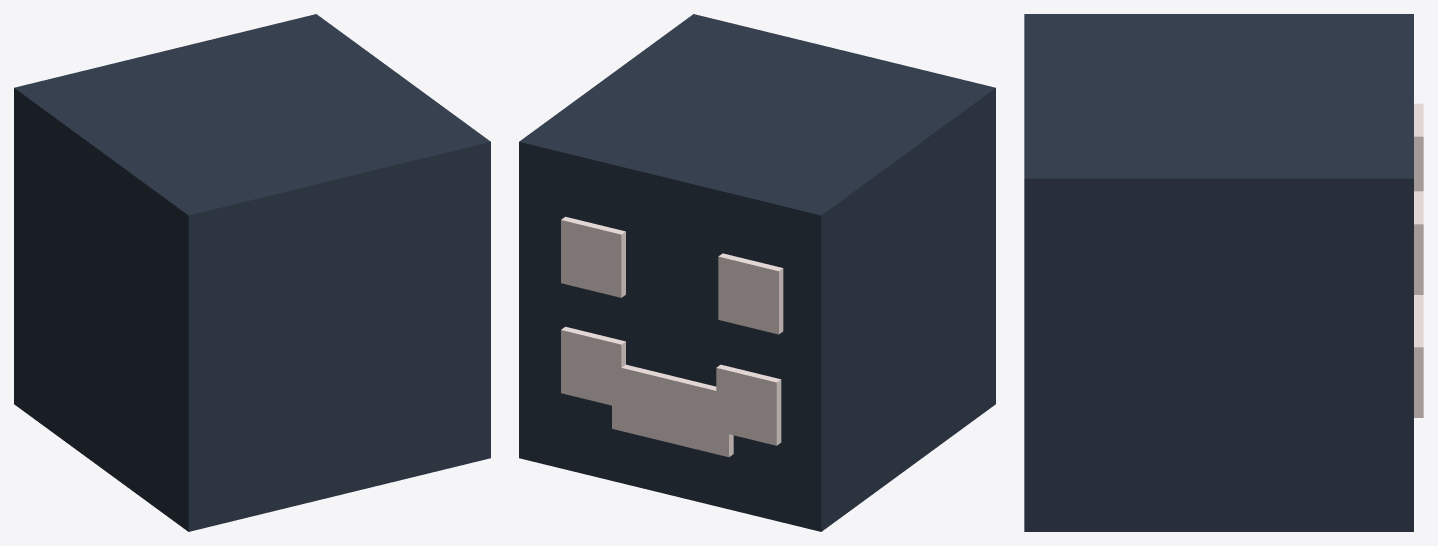
The model's file is 3d_happy.fbx.
3 views of the same model, side by side, from view 1: azimuth 30°, elevation 25°; view 2: azimuth 150°, elevation 25°; view 3: azimuth 270°, elevation 25° (orthographic). The views are drawn at different scales.
Visible parts, largest first — view 1: Cube; view 2: Cube, Cube.001, Cube.002, Cube.003, Cube.004, Cube.006, Cube.005; view 3: Cube, Cube.002, Cube.005, Cube.001.
Boxes of the visible parts, x1,y1,x2,y2 form: Cube: [14, 14, 490, 531]; Cube: [519, 14, 995, 531]; Cube.001: [718, 253, 783, 334]; Cube.002: [561, 216, 625, 297]; Cube.003: [612, 364, 672, 443]; Cube.004: [668, 376, 733, 457]; Cube.006: [716, 364, 781, 445]; Cube.005: [561, 326, 625, 405]; Cube: [1024, 14, 1413, 531]; Cube.002: [1414, 191, 1423, 294]; Cube.005: [1414, 314, 1423, 417]; Cube.001: [1414, 103, 1423, 191].
Size of the model in its own units: 200 by 200 by 205.
